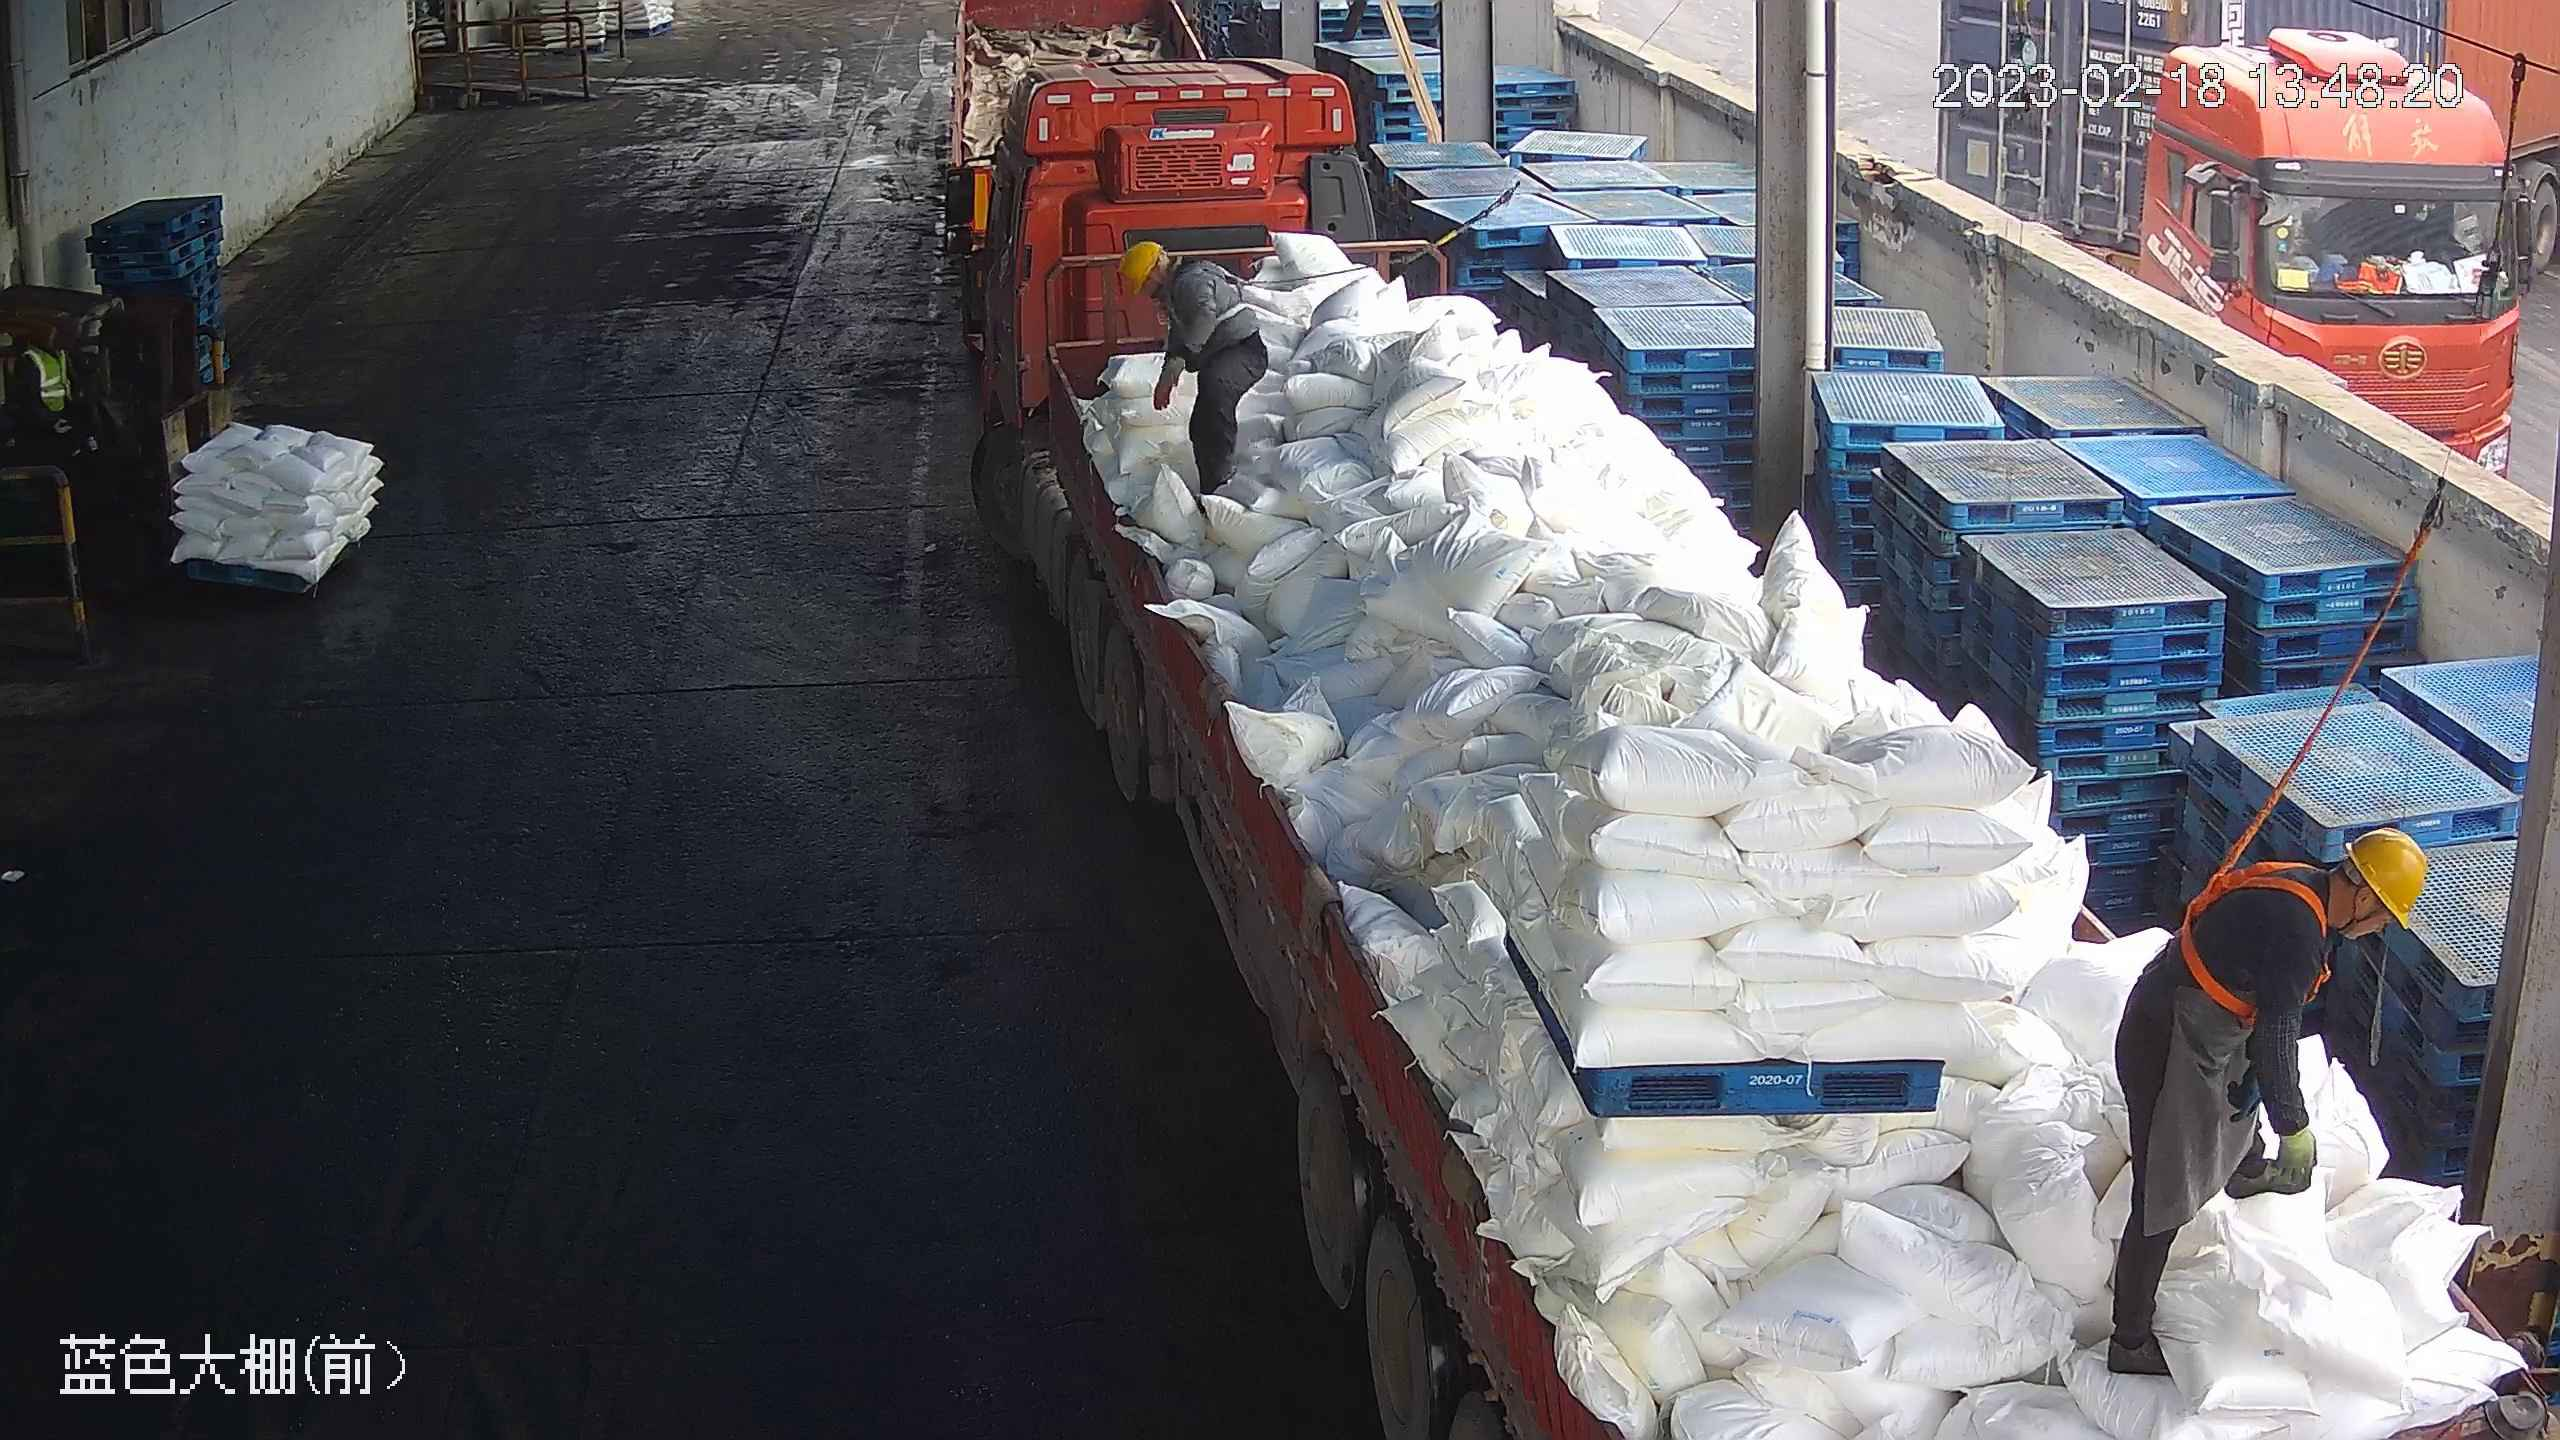belt: (2155, 830, 2341, 1027), (1181, 252, 1269, 326)
head: (2221, 817, 2429, 1003), (1117, 237, 1233, 341)
helmet: (2343, 825, 2429, 928), (1118, 236, 1165, 289)
people: (2093, 815, 2435, 1373), (1118, 237, 1274, 506)
truck: (951, 38, 2549, 1439), (1862, 10, 2555, 443)
